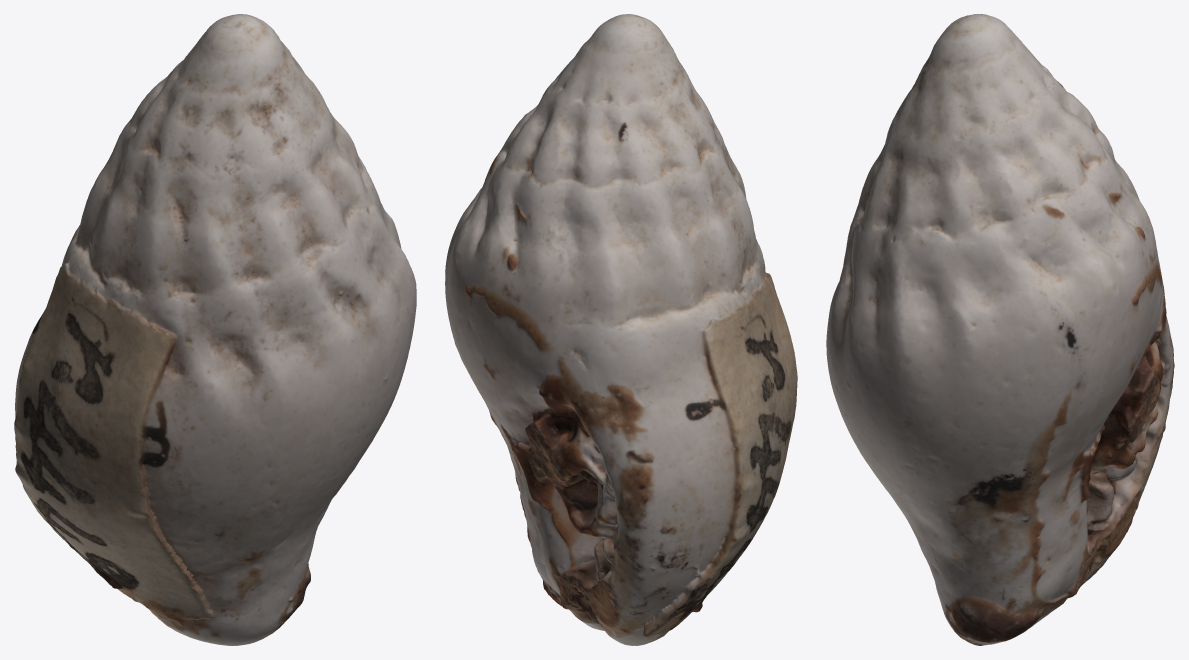
Rendered from EWS0016214.glb.
The picture shows the model from 3 angles, left to right: view 1: azimuth 30°, elevation 25°; view 2: azimuth 150°, elevation 25°; view 3: azimuth 270°, elevation 25°; orthographic projection. The views are drawn at different scales.
Visible parts, largest first — view 1: input; view 2: input; view 3: input.
Boxes of the visible parts, bbox=[...] form: input: bbox=[14, 14, 416, 645]; input: bbox=[445, 14, 797, 645]; input: bbox=[826, 14, 1174, 645].
Size of the model in its own units: 0.0104 by 0.0187 by 0.00952.
1 material, 1 textured.
